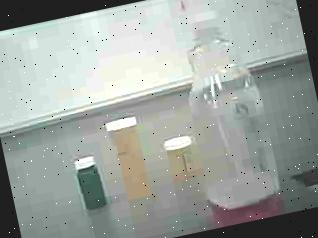Bottle A: (102, 111, 162, 206)
Bottle B: (160, 131, 203, 186)
Bottle C: (70, 152, 112, 214)
hazard: (170, 0, 296, 228)
